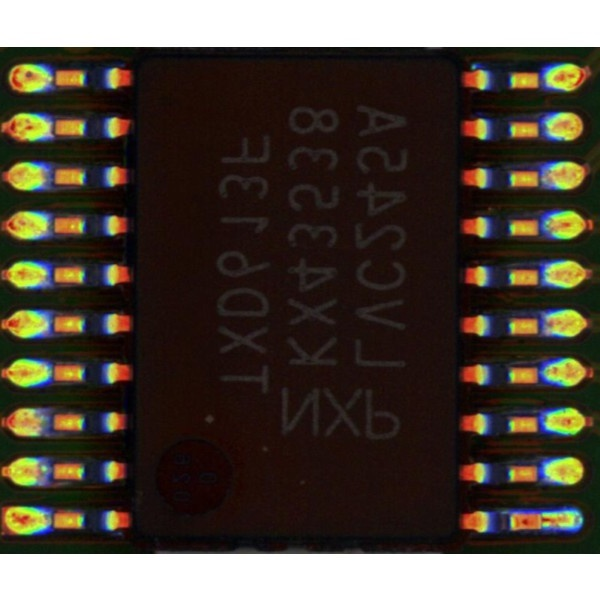Bad_podu: (528, 516, 560, 526)
